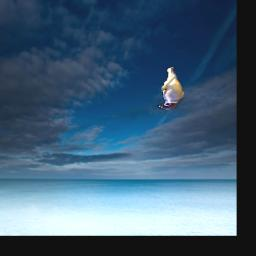Sparrow: (157, 67, 184, 111)
